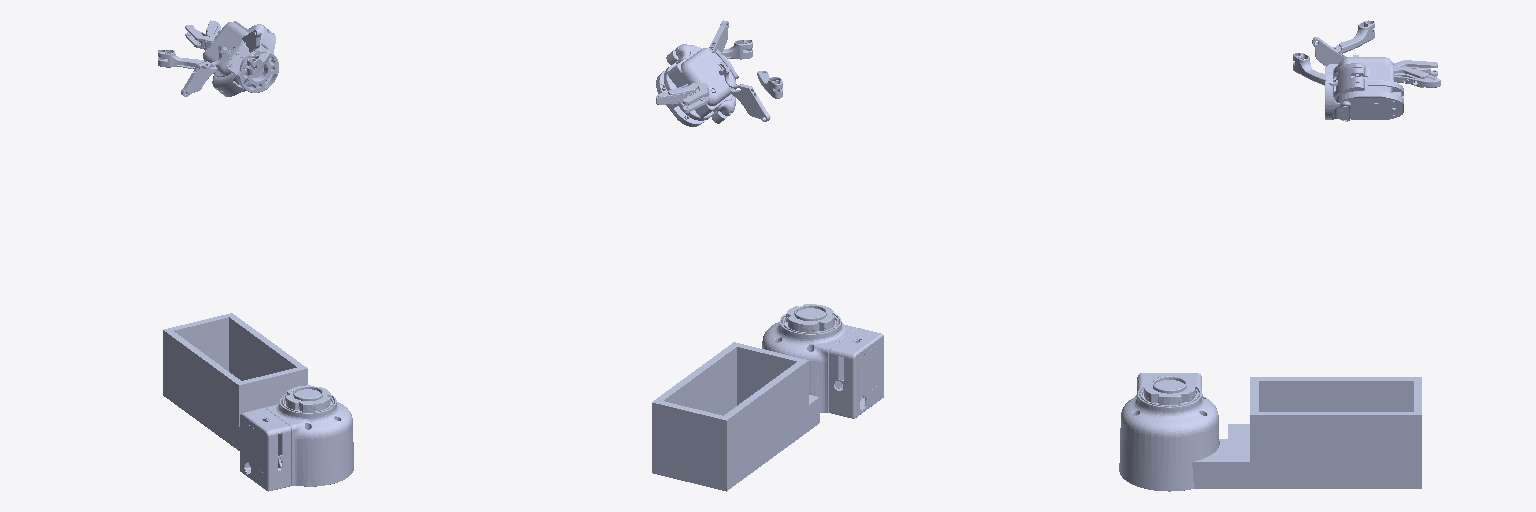
--- What the picture shows (computed from the rendered views, not written in the file) ---
The picture shows the robot from 3 angles, left to right: view 1: azimuth 30°, elevation 25°; view 2: azimuth 150°, elevation 25°; view 3: azimuth 270°, elevation 25°; orthographic projection.
Robot: firefighter — 14 links, 13 joints (12 revolute, 1 fixed); root link base; default pose: every joint at zero.
Visible links, largest first — view 1: base, gripper_base, gripper_left3, gripper_left2; view 2: base, gripper_base, gripper_left3; view 3: base, gripper_base, gripper_right1, gripper_left2, gripper_right2, gripper_right3.
Link boxes in pixels (x1,y1,x2,y2): base: (163,313,353,491); gripper_base: (203,21,278,96); gripper_left3: (181,45,227,96); gripper_left2: (158,50,211,68); base: (652,304,883,491); gripper_base: (656,44,738,126); gripper_left3: (719,66,770,121); base: (1119,373,1421,491); gripper_base: (1325,57,1403,121); gripper_right1: (1394,66,1440,87); gripper_left2: (1333,20,1374,53); gripper_right2: (1293,53,1337,86); gripper_right3: (1312,37,1345,73).
Bounding box of the posed robot: 0.1683 × 0.373 × 0.5632 m (x, y, z).
8 mesh visuals loaded from 14 distinct referenced files (8 binary STL); not drawn: 6 (reference not matched to a file when rendering).

The robot description file, URDF, robot "firefighter":
<?xml version="1.0" encoding="utf-8" ?>
<!-- This URDF was automatically created by SolidWorks to URDF Exporter! Originally created by Stephen Brawner ([email redacted]) 
     Commit Version: 1.6.0-4-g7f85cfe  Build Version: 1.6.7995.38578
     For more information, please see http://wiki.ros.org/sw_urdf_exporter -->
<robot name="firefighter">
    <link name="base">
        <inertial>
            <origin xyz="0.00864769538073963 0.0501201830062367 -0.0001269252675038" rpy="0 0 0" />
            <mass value="0.56970595235568" />
            <inertia ixx="0.000854432628304121" ixy="-2.27886028277217E-05" ixz="7.92812450025781E-08" iyy="0.00063647517455145" iyz="-1.68177277350718E-07" izz="0.000773078477351003" />
        </inertial>
        <visual>
            <origin xyz="0 0 0" rpy="0 0 0" />
            <geometry>
                <mesh filename="package://mycobot_description/meshes/base.STL" />
            </geometry>
            <material name="">
                <color rgba="0.792156862745098 0.819607843137255 0.933333333333333 1" />
            </material>
        </visual>
        <collision>
            <origin xyz="0 0 0" rpy="0 0 0" />
            <geometry>
                <mesh filename="package://mycobot_description/meshes/base.STL" />
            </geometry>
        </collision>
    </link>
    <link name="link1">
        <inertial>
            <origin xyz="-0.0229764852615092 -0.0693988337522376 -6.37776381810897E-05" rpy="0 0 0" />
            <mass value="0.301887728880534" />
            <inertia ixx="0.000350092302701137" ixy="-5.69640237858692E-05" ixz="-2.65395784957924E-07" iyy="0.000305852557006047" iyz="-3.07057068330416E-07" izz="0.000409310650724837" />
        </inertial>
        <visual>
            <origin xyz="0 0 0" rpy="0 0 0" />
            <geometry>
                <mesh filename="package://mycobot_description/meshes/link_1.STL" />
            </geometry>
            <material name="">
                <color rgba="0.792156862745098 0.819607843137255 0.933333333333333 1" />
            </material>
        </visual>
        <collision>
            <origin xyz="0 0 0" rpy="0 0 0" />
            <geometry>
                <mesh filename="package://mycobot_description/meshes/link_1.STL" />
            </geometry>
        </collision>
    </link>
    <link name="link2">
        <inertial>
            <origin xyz="3.69344307860183E-05 0.081364207071556 -0.0364962339199251" rpy="0 0 0" />
            <mass value="0.369827042467204" />
            <inertia ixx="0.00136957213034946" ixy="-4.19477008777462E-07" ixz="3.17066412374E-07" iyy="0.000219952881825987" iyz="-0.000122748918780218" izz="0.00143836489391043" />
        </inertial>
        <visual>
            <origin xyz="0 0 0" rpy="0 0 0" />
            <geometry>
                <mesh filename="package://mycobot_description/meshes/link_2.STL" />
            </geometry>
            <material name="">
                <color rgba="0.792156862745098 0.819607843137255 0.933333333333333 1" />
            </material>
        </visual>
        <collision>
            <origin xyz="0 0 0" rpy="0 0 0" />
            <geometry>
                <mesh filename="package://mycobot_description/meshes/link_2.STL" />
            </geometry>
        </collision>
    </link>
    <link name="link3">
        <inertial>
            <origin xyz="0.000128045162901544 0.0512525068477688 -0.0325120221562957" rpy="0 0 0" />
            <mass value="0.301266716820875" />
            <inertia ixx="0.000970410194369734" ixy="-2.55340572598396E-06" ixz="-7.42044375423772E-08" iyy="0.000146256044113372" iyz="9.03003451793476E-06" izz="0.00101269642178073" />
        </inertial>
        <visual>
            <origin xyz="0 0 0" rpy="0 0 0" />
            <geometry>
                <mesh filename="package://mycobot_description/meshes/link_3.STL" />
            </geometry>
            <material name="">
                <color rgba="0.792156862745098 0.819607843137255 0.933333333333333 1" />
            </material>
        </visual>
        <collision>
            <origin xyz="0 0 0" rpy="0 0 0" />
            <geometry>
                <mesh filename="package://mycobot_description/meshes/link_3.STL" />
            </geometry>
        </collision>
    </link>
    <link name="link4">
        <inertial>
            <origin xyz="0.000265082662692994 0.0334463380037113 0.0130845962740105" rpy="0 0 0" />
            <mass value="0.138639298635822" />
            <inertia ixx="0.000124610419570482" ixy="-4.93245678053435E-07" ixz="-4.88762988582506E-08" iyy="9.07985520863139E-05" iyz="-2.74497954244676E-05" izz="0.000103054238090649" />
        </inertial>
        <visual>
            <origin xyz="0 0 0" rpy="0 0 0" />
            <geometry>
                <mesh filename="package://mycobot_description/meshes/link_4.STL" />
            </geometry>
            <material name="">
                <color rgba="0.792156862745098 0.819607843137255 0.933333333333333 1" />
            </material>
        </visual>
        <collision>
            <origin xyz="0 0 0" rpy="0 0 0" />
            <geometry>
                <mesh filename="package://mycobot_description/meshes/link_4.STL" />
            </geometry>
        </collision>
    </link>
    <link name="link5">
        <inertial>
            <origin xyz="2.23278841472151E-06 0.0410281066595131 0.00683851385393441" rpy="0 0 0" />
            <mass value="0.223950798585031" />
            <inertia ixx="0.000190772660657992" ixy="1.18751021122271E-08" ixz="1.55601088172827E-08" iyy="0.000145172982922192" iyz="-1.22311890154089E-05" izz="0.000150100995836041" />
        </inertial>
        <visual>
            <origin xyz="0 0 0" rpy="0 0 0" />
            <geometry>
                <mesh filename="package://mycobot_description/meshes/link_5.STL" />
            </geometry>
            <material name="">
                <color rgba="0.792156862745098 0.819607843137255 0.933333333333333 1" />
            </material>
        </visual>
        <collision>
            <origin xyz="0 0 0" rpy="0 0 0" />
            <geometry>
                <mesh filename="package://mycobot_description/meshes/link_5.STL" />
            </geometry>
        </collision>
    </link>
    <link name="link6">
        <inertial>
            <origin xyz="-3.06995301368375E-07 0.0102162995717018 -9.99128442441544E-05" rpy="0 0 0" />
            <mass value="0.0401030543253866" />
            <inertia ixx="9.6762923694051E-06" ixy="1.0915252597982E-12" ixz="1.32278192667925E-10" iyy="1.75125666482584E-05" iyz="2.04538907434163E-08" izz="9.81088755486887E-06" />
        </inertial>
        <visual>
            <origin xyz="0 0 0" rpy="0 0 0" />
            <geometry>
                <mesh filename="package://mycobot_description/meshes/link_6.STL" />
            </geometry>
            <material name="">
                <color rgba="0.792156862745098 0.819607843137255 0.933333333333333 1" />
            </material>
        </visual>
        <collision>
            <origin xyz="0 0 0" rpy="0 0 0" />
            <geometry>
                <mesh filename="package://mycobot_description/meshes/link_6.STL" />
            </geometry>
        </collision>
    </link>
    <link name="gripper_base">
        <inertial>
            <origin xyz="-0.00798688220373683 -0.0120842301346442 0.0512045732219854" rpy="0 0 0" />
            <mass value="0.134693199067573" />
            <inertia ixx="9.16822440366729E-05" ixy="-2.26725184090963E-06" ixz="-2.52417147986972E-05" iyy="9.17248595574987E-05" iyz="2.48203691389261E-06" izz="9.15296683279762E-05" />
        </inertial>
        <visual>
            <origin xyz="0 0 0" rpy="0 0 0" />
            <geometry>
                <mesh filename="package://mycobot_description/meshes/gripper_base.STL" />
            </geometry>
            <material name="">
                <color rgba="0.792156862745098 0.819607843137255 0.933333333333333 1" />
            </material>
        </visual>
        <collision>
            <origin xyz="0 0 0" rpy="0 0 0" />
            <geometry>
                <mesh filename="package://mycobot_description/meshes/gripper_base.STL" />
            </geometry>
        </collision>
    </link>
    <link name="gripper_left3">
        <inertial>
            <origin xyz="-0.00355845256548371 -0.000298990677825101 -0.0278756299470882" rpy="0 0 0" />
            <mass value="0.00821077129483564" />
            <inertia ixx="2.24065862151985E-06" ixy="-1.65379908540206E-11" ixz="7.39945002380107E-11" iyy="1.90018900716357E-06" iyz="3.30309798274581E-07" izz="4.09688058940618E-07" />
        </inertial>
        <visual>
            <origin xyz="0 0 0" rpy="0 0 0" />
            <geometry>
                <mesh filename="package://mycobot_description/meshes/gripper_left3.STL" />
            </geometry>
            <material name="">
                <color rgba="0.792156862745098 0.819607843137255 0.933333333333333 1" />
            </material>
        </visual>
        <collision>
            <origin xyz="0 0 0" rpy="0 0 0" />
            <geometry>
                <mesh filename="package://mycobot_description/meshes/gripper_left3.STL" />
            </geometry>
        </collision>
    </link>
    <link name="gripper_left1">
        <inertial>
            <origin xyz="0.00318191031113946 0.0117963820236138 0.00342718940899311" rpy="0 0 0" />
            <mass value="0.0118729349511637" />
            <inertia ixx="1.03508703899277E-06" ixy="-1.33388291264996E-06" ixz="-1.72099398751629E-09" iyy="3.81061397749657E-06" iyz="-1.20028821999214E-09" izz="4.42845104471327E-06" />
        </inertial>
        <visual>
            <origin xyz="0 0 0" rpy="0 0 0" />
            <geometry>
                <mesh filename="package://mycobot_description/meshes/gripper_left1.STL" />
            </geometry>
            <material name="">
                <color rgba="0.792156862745098 0.819607843137255 0.933333333333333 1" />
            </material>
        </visual>
        <collision>
            <origin xyz="0 0 0" rpy="0 0 0" />
            <geometry>
                <mesh filename="package://mycobot_description/meshes/gripper_left1.STL" />
            </geometry>
        </collision>
    </link>
    <link name="gripper_right3">
        <inertial>
            <origin xyz="0.0278756299517241 -0.0036505192380043 -0.000298990729776474" rpy="0 0 0" />
            <mass value="0.00821077129376719" />
            <inertia ixx="4.09688058948671E-07" ixy="7.39994076310894E-11" ixz="-3.30309798252761E-07" iyy="2.2406586208928E-06" iyz="1.65430609909643E-11" izz="1.90018900652836E-06" />
        </inertial>
        <visual>
            <origin xyz="0 0 0" rpy="0 0 0" />
            <geometry>
                <mesh filename="package://mycobot_description/meshes/gripper_right3.STL" />
            </geometry>
            <material name="">
                <color rgba="0.792156862745098 0.819607843137255 0.933333333333333 1" />
            </material>
        </visual>
        <collision>
            <origin xyz="0 0 0" rpy="0 0 0" />
            <geometry>
                <mesh filename="package://mycobot_description/meshes/gripper_right3.STL" />
            </geometry>
        </collision>
    </link>
    <link name="gripper_right1">
        <inertial>
            <origin xyz="0.0031818922963909 -0.0117963613233088 0.00352016232501318" rpy="0 0 0" />
            <mass value="0.0118729653320581" />
            <inertia ixx="1.03508912571966E-06" ixy="1.33388571859194E-06" ixz="-1.7107343747182E-09" iyy="3.81061488541789E-06" iyz="1.23293358871832E-09" izz="4.42845106710356E-06" />
        </inertial>
        <visual>
            <origin xyz="0 0 0" rpy="0 0 0" />
            <geometry>
                <mesh filename="package://mycobot_description/meshes/gripper_right1.STL" />
            </geometry>
            <material name="">
                <color rgba="0.792156862745098 0.819607843137255 0.933333333333333 1" />
            </material>
        </visual>
        <collision>
            <origin xyz="0 0 0" rpy="0 0 0" />
            <geometry>
                <mesh filename="package://mycobot_description/meshes/gripper_right1.STL" />
            </geometry>
        </collision>
    </link>
    <link name="gripper_left2">
        <inertial>
            <origin xyz="0.035135 0.004321 -0.014224" rpy="0 0 0" />
            <mass value="0.0066293" />
            <inertia ixx="3.7451E-07" ixy="-5.2455E-07" ixz="-1.8743E-07" iyy="2.2876E-06" iyz="-4.7327E-08" izz="2.3864E-06" />
        </inertial>
        <visual>
            <origin xyz="0 0 0" rpy="0 0 0" />
            <geometry>
                <mesh filename="package://mycobot_description/meshes/gripper_left2.STL" />
            </geometry>
            <material name="">
                <color rgba="0.79216 0.81961 0.93333 1" />
            </material>
        </visual>
        <collision>
            <origin xyz="0 0 0" rpy="0 0 0" />
            <geometry>
                <mesh filename="package://mycobot_description/meshes/gripper_left2.STL" />
            </geometry>
        </collision>
    </link>
    <link name="gripper_right2">
        <inertial>
            <origin xyz="0.035135 -0.004321 -0.014224" rpy="0 0 0" />
            <mass value="0.0066295" />
            <inertia ixx="3.7452E-07" ixy="5.2455E-07" ixz="-1.8744E-07" iyy="2.2876E-06" iyz="4.7323E-08" izz="2.3864E-06" />
        </inertial>
        <visual>
            <origin xyz="0 0 0" rpy="0 0 0" />
            <geometry>
                <mesh filename="package://mycobot_description/meshes/gripper_right2.STL" />
            </geometry>
            <material name="">
                <color rgba="0.79216 0.81961 0.93333 1" />
            </material>
        </visual>
        <collision>
            <origin xyz="0 0 0" rpy="0 0 0" />
            <geometry>
                <mesh filename="package://mycobot_description/meshes/gripper_right2.STL" />
            </geometry>
        </collision>
    </link>
    <joint name="joint2_to_joint1" type="revolute">
        <origin xyz="0 0 0.096683" rpy="-1.5708 0 -1.5708" />
        <parent link="base" />
        <child link="link1" />
        <axis xyz="0 -1 0" />
        <limit lower="-2.87" upper="2.87" effort="1000" velocity="0" />
    </joint>
    <joint name="joint3_to_joint2" type="revolute">
        <origin xyz="-0.039863 -0.078717 0" rpy="0 -1.5708 3.14" />
        <parent link="link1" />
        <child link="link2" />
        <axis xyz="0 0 -1" />
        <limit lower="-2.879" upper="2.879" effort="1000" velocity="0" />
    </joint>
    <joint name="joint4_to_joint3" type="revolute">
        <origin xyz="0 0.135 0" rpy="3.1416 0 -3.1416" />
        <parent link="link2" />
        <child link="link3" />
        <axis xyz="0 0 1" />
        <limit lower="-2.879" upper="2.879" effort="1000" velocity="0" />
    </joint>
    <joint name="joint5_to_joint4" type="revolute">
        <origin xyz="0 0.12 0" rpy="1.5708 0 -3.1416" />
        <parent link="link3" />
        <child link="link4" />
        <axis xyz="0 1 0" />
        <limit lower="-2.879" upper="2.879" effort="1000" velocity="0" />
    </joint>
    <joint name="joint6_to_joint5" type="revolute">
        <origin xyz="0 0.047817 0.044983" rpy="1.5708 0 3.1416" />
        <parent link="link4" />
        <child link="link5" />
        <axis xyz="0 1 0" />
        <limit effort="1000.0" lower="-2.96" upper="2.96" velocity="0" />
    </joint>
    <joint name="joint6output_to_joint6" type="revolute">
        <origin xyz="0 0.049717 0.044983" rpy="1.5708 0 3.1416" />
        <parent link="link5" />
        <child link="link6" />
        <axis xyz="0 1 0" />
        <limit lower="-3.05" upper="3.05" effort="1000" velocity="0" />
    </joint>
    <joint name="joint6output_to_gripper_base" type="fixed">
        <origin xyz="0.030617 0.046717 -0.030618" rpy="0 0.7854 3.1416" />
        <parent link="link6" />
        <child link="gripper_base" />
        <axis xyz="0 0 0" />
    </joint>
    <joint name="gripper_controller" type="revolute">
        <origin xyz="0.02052 -0.033 0.048688" rpy="-1.5708 0.7854 0" />
        <parent link="gripper_base" />
        <child link="gripper_left3" />
        <axis xyz="-1 0 0" />
        <limit lower="0" upper="0.8" effort="1000" velocity="0" />
    </joint>
    <joint name="gripper_base_to_gripper_left2" type="revolute">
        <origin xyz="0.039098 -0.010685 0.066982" rpy="-2.3562 0.0005495 -1.5713" />
        <parent link="gripper_base" />
        <child link="gripper_left2" />
        <limit effort="1000.0" lower="-0.5" upper="0.8" velocity="0" />
        <axis xyz="0 0 1" />
        <mimic joint="gripper_controller" multiplier="-1" offset="0" />
    </joint>
    <joint name="gripper_left3_to_gripper_left1" type="revolute">
        <origin xyz="0 0.009756 -0.06" rpy="-1.5708 0.7088 1.5708" />
        <parent link="gripper_left3" />
        <child link="gripper_left1" />
        <axis xyz="0 0 1" />
        <limit lower="0" upper="0" effort="0" velocity="0" />
        <mimic joint="gripper_controller" multiplier="-1" offset="0" />
    </joint>
    <joint name="gripper_base_to_gripper_right3" type="revolute">
        <origin xyz="-0.0053222 -0.033 0.022714" rpy="-0.7854 0 -1.5708" />
        <parent link="gripper_base" />
        <child link="gripper_right3" />
        <axis xyz="0 1 0" />
        <limit lower="-1" upper="1" effort="1000" velocity="0" />
        <mimic joint="gripper_controller" multiplier="1" offset="0" />
    </joint>
    <joint name="gripper_base_to_gripper_right2" type="revolute">
        <origin xyz="-0.023682 -0.010685 0.004202" rpy="-2.3562 -0.0005495 -1.5702" />
        <parent link="gripper_base" />
        <child link="gripper_right2" />
        <axis xyz="0 0 1" />
        <limit effort="1000.0" lower="-0.5" upper="0.8" velocity="0" />
        <mimic joint="gripper_controller" multiplier="1" offset="0" />
    </joint>
    <joint name="gripper_right3_to_gripper_right1" type="revolute">
        <origin xyz="0.06 0 0.009756" rpy="1.5708 -0.862 0" />
        <parent link="gripper_right3" />
        <child link="gripper_right1" />
        <axis xyz="0 0 1" />
        <limit lower="0" upper="0" effort="0" velocity="0" />
        <mimic joint="gripper_controller" multiplier="1" offset="0" />
    </joint>
    <transmission name="trans_joint2_to_joint1">
        <type>transmission_interface/SimpleTransmission</type>
        <joint name="joint2_to_joint1">
            <hardwareInterface>hardware_interface/EffortJointInterface</hardwareInterface>
        </joint>
        <actuator name="joint2_to_joint1_motor">
            <hardwareInterface>hardware_interface/EffortJointInterface</hardwareInterface>
            <mechanicalReduction>1</mechanicalReduction>
        </actuator>
    </transmission>
    <transmission name="trans_joint3_to_joint2">
        <type>transmission_interface/SimpleTransmission</type>
        <joint name="joint3_to_joint2">
            <hardwareInterface>hardware_interface/EffortJointInterface</hardwareInterface>
        </joint>
        <actuator name="joint3_to_joint2_motor">
            <hardwareInterface>hardware_interface/EffortJointInterface</hardwareInterface>
            <mechanicalReduction>1</mechanicalReduction>
        </actuator>
    </transmission>
    <transmission name="trans_joint4_to_joint3">
        <type>transmission_interface/SimpleTransmission</type>
        <joint name="joint4_to_joint3">
            <hardwareInterface>hardware_interface/EffortJointInterface</hardwareInterface>
        </joint>
        <actuator name="joint4_to_joint3_motor">
            <hardwareInterface>hardware_interface/EffortJointInterface</hardwareInterface>
            <mechanicalReduction>1</mechanicalReduction>
        </actuator>
    </transmission>
    <transmission name="trans_joint5_to_joint4">
        <type>transmission_interface/SimpleTransmission</type>
        <joint name="joint5_to_joint4">
            <hardwareInterface>hardware_interface/EffortJointInterface</hardwareInterface>
        </joint>
        <actuator name="joint5_to_joint4_motor">
            <hardwareInterface>hardware_interface/EffortJointInterface</hardwareInterface>
            <mechanicalReduction>1</mechanicalReduction>
        </actuator>
    </transmission>
    <transmission name="trans_joint6_to_joint5">
        <type>transmission_interface/SimpleTransmission</type>
        <joint name="joint6_to_joint5">
            <hardwareInterface>hardware_interface/EffortJointInterface</hardwareInterface>
        </joint>
        <actuator name="joint6_to_joint5_motor">
            <hardwareInterface>hardware_interface/EffortJointInterface</hardwareInterface>
            <mechanicalReduction>1</mechanicalReduction>
        </actuator>
    </transmission>
    <transmission name="trans_joint6output_to_joint6">
        <type>transmission_interface/SimpleTransmission</type>
        <joint name="joint6output_to_joint6">
            <hardwareInterface>hardware_interface/EffortJointInterface</hardwareInterface>
        </joint>
        <actuator name="joint6output_to_joint6_motor">
            <hardwareInterface>hardware_interface/EffortJointInterface</hardwareInterface>
            <mechanicalReduction>1</mechanicalReduction>
        </actuator>
    </transmission>
    <transmission name="trans_gripper_controller">
        <type>transmission_interface/SimpleTransmission</type>
        <joint name="gripper_controller">
            <hardwareInterface>hardware_interface/EffortJointInterface</hardwareInterface>
        </joint>
        <actuator name="gripper_controller_motor">
            <hardwareInterface>hardware_interface/EffortJointInterface</hardwareInterface>
            <mechanicalReduction>1</mechanicalReduction>
        </actuator>
    </transmission>
    <transmission name="trans_gripper_base_to_gripper_left2">
        <type>transmission_interface/SimpleTransmission</type>
        <joint name="gripper_base_to_gripper_left2">
            <hardwareInterface>hardware_interface/EffortJointInterface</hardwareInterface>
        </joint>
        <actuator name="gripper_base_to_gripper_left2_motor">
            <hardwareInterface>hardware_interface/EffortJointInterface</hardwareInterface>
            <mechanicalReduction>1</mechanicalReduction>
        </actuator>
    </transmission>
    <transmission name="trans_gripper_left3_to_gripper_left1">
        <type>transmission_interface/SimpleTransmission</type>
        <joint name="gripper_left3_to_gripper_left1">
            <hardwareInterface>hardware_interface/EffortJointInterface</hardwareInterface>
        </joint>
        <actuator name="gripper_left3_to_gripper_left1_motor">
            <hardwareInterface>hardware_interface/EffortJointInterface</hardwareInterface>
            <mechanicalReduction>1</mechanicalReduction>
        </actuator>
    </transmission>
    <transmission name="trans_gripper_base_to_gripper_right3">
        <type>transmission_interface/SimpleTransmission</type>
        <joint name="gripper_base_to_gripper_right3">
            <hardwareInterface>hardware_interface/EffortJointInterface</hardwareInterface>
        </joint>
        <actuator name="gripper_base_to_gripper_right3_motor">
            <hardwareInterface>hardware_interface/EffortJointInterface</hardwareInterface>
            <mechanicalReduction>1</mechanicalReduction>
        </actuator>
    </transmission>
    <transmission name="trans_gripper_base_to_gripper_right2">
        <type>transmission_interface/SimpleTransmission</type>
        <joint name="gripper_base_to_gripper_right2">
            <hardwareInterface>hardware_interface/EffortJointInterface</hardwareInterface>
        </joint>
        <actuator name="gripper_base_to_gripper_right2_motor">
            <hardwareInterface>hardware_interface/EffortJointInterface</hardwareInterface>
            <mechanicalReduction>1</mechanicalReduction>
        </actuator>
    </transmission>
    <transmission name="trans_gripper_right3_to_gripper_right1">
        <type>transmission_interface/SimpleTransmission</type>
        <joint name="gripper_right3_to_gripper_right1">
            <hardwareInterface>hardware_interface/EffortJointInterface</hardwareInterface>
        </joint>
        <actuator name="gripper_right3_to_gripper_right1_motor">
            <hardwareInterface>hardware_interface/EffortJointInterface</hardwareInterface>
            <mechanicalReduction>1</mechanicalReduction>
        </actuator>
    </transmission>
    <gazebo>
        <plugin name="gazebo_ros_control">
            <robotNamespace>/</robotNamespace>
        </plugin>
    </gazebo>
</robot>
